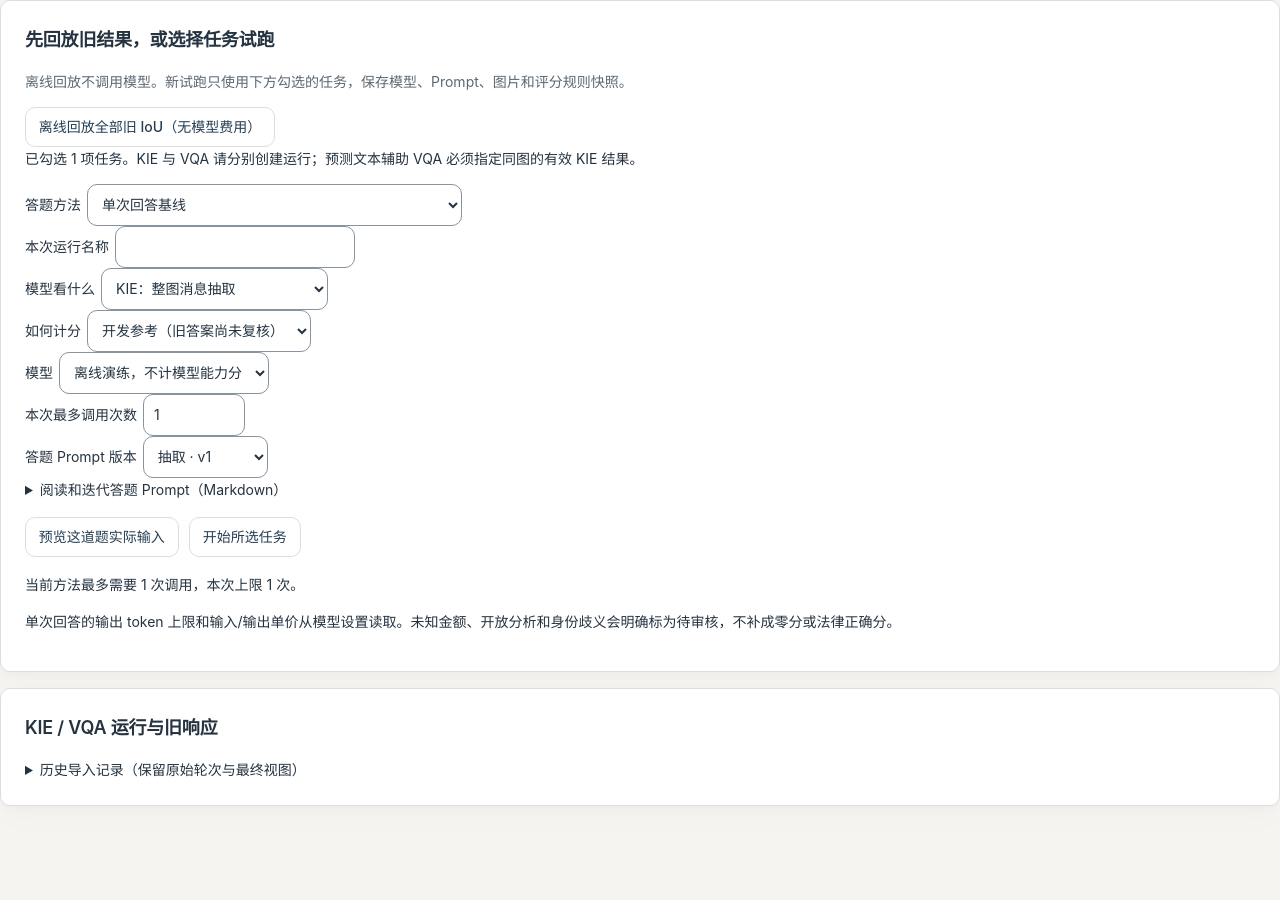
Test: recomputes the Reflexion action and reflection ceiling when attempts change
Select "Reflexion：作者反思与记忆" in the dropdown labelled "答题方法" at (274, 205), box [87,184,462,226]
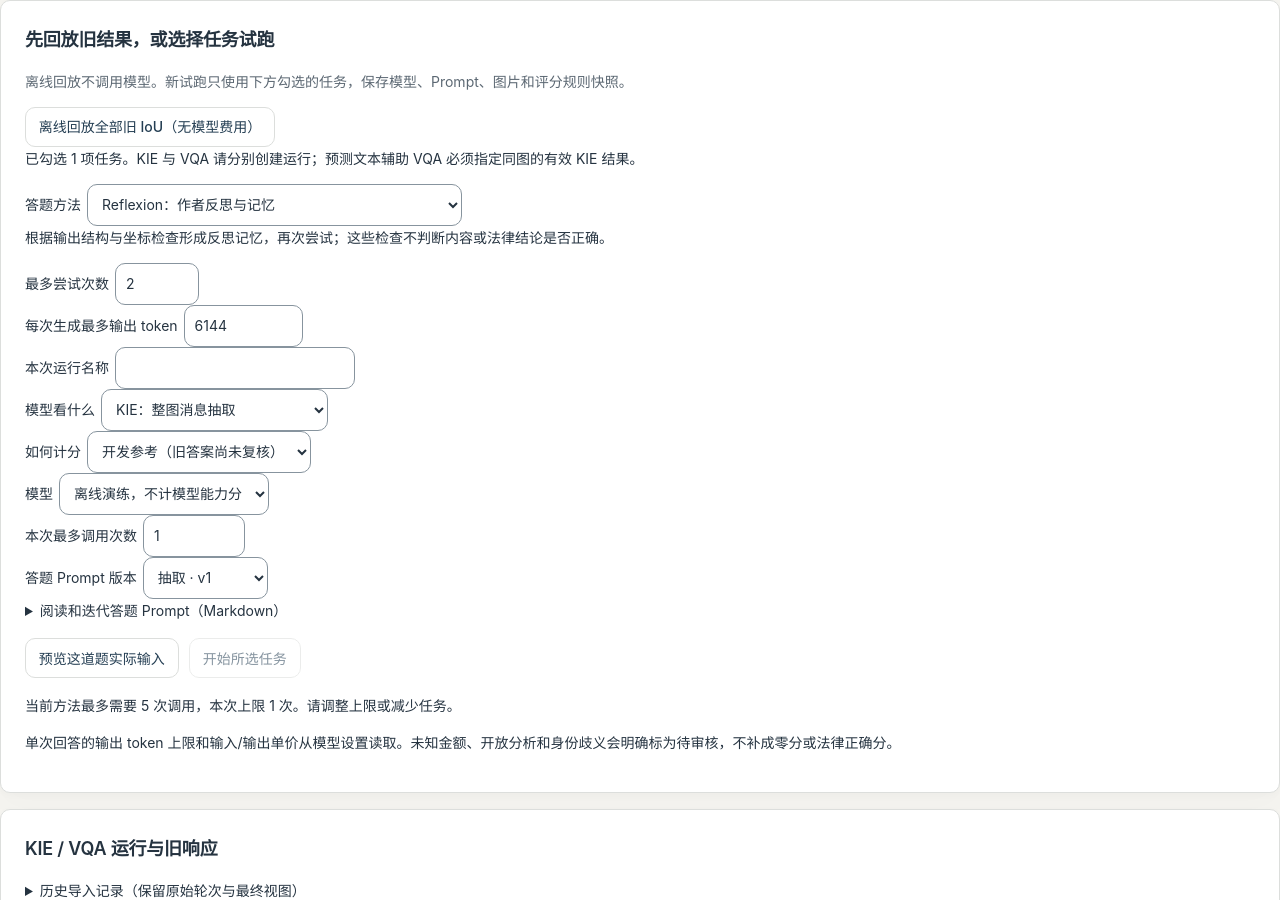
Now the message shows "最多需要 5 次调用", box [25,697,461,714]
Replace the text in the number field labelled "最多尝试次数" with "3" at (157, 284), box [115,263,199,305]
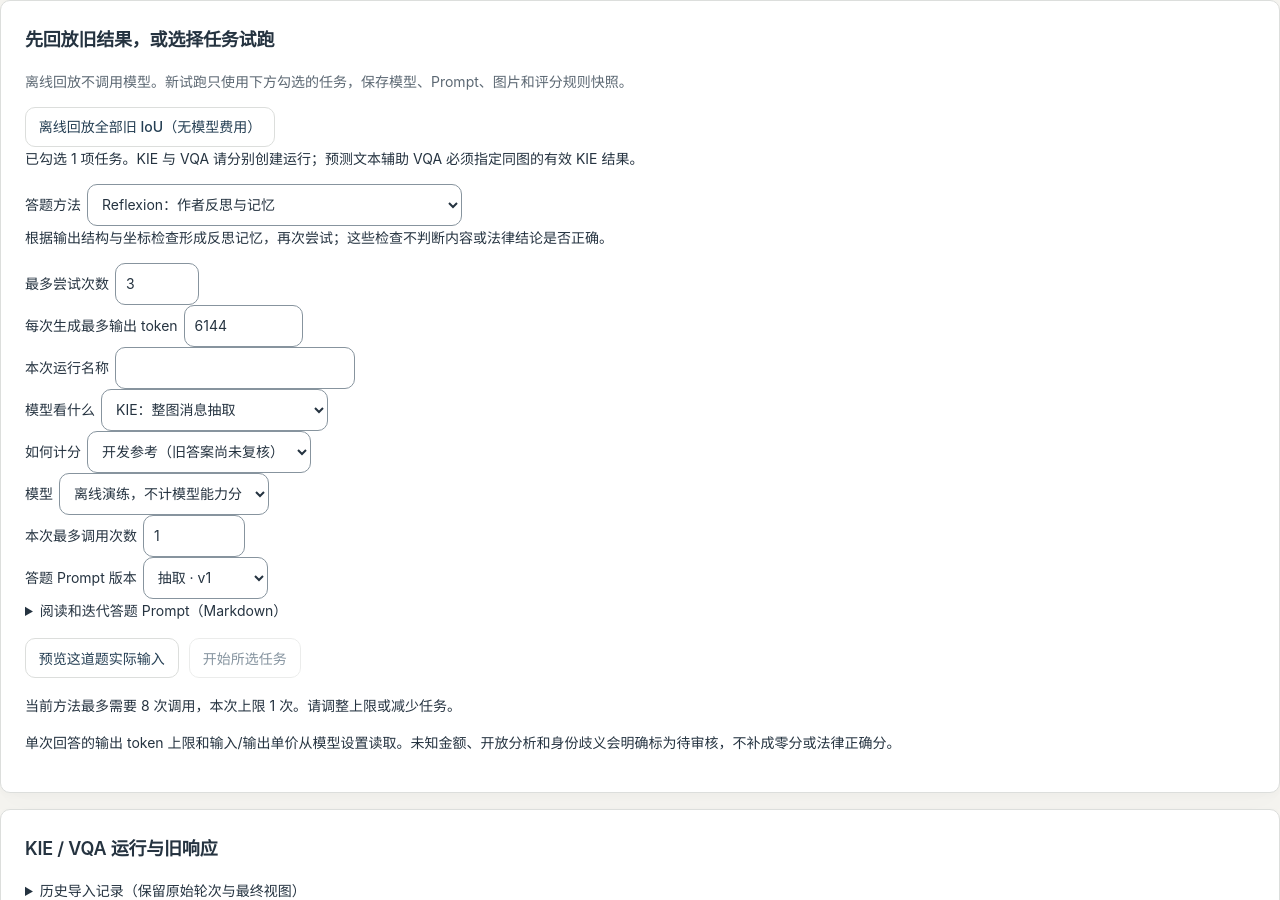
Now the message shows "最多需要 8 次调用", box [25,697,461,714]
Replace the text in the number field labelled "本次最多调用次数" with "7" at (194, 536), box [143,515,245,557]
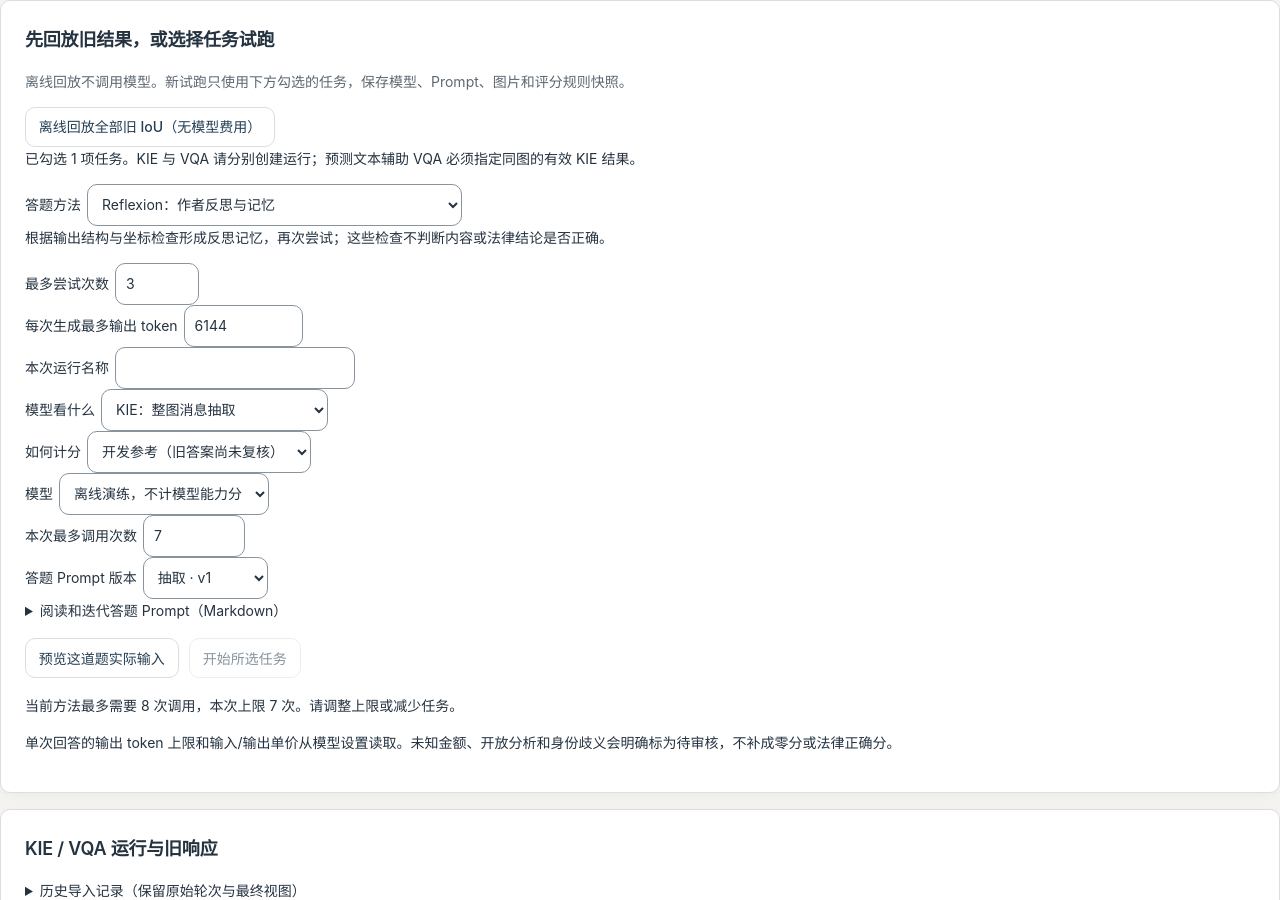
Now the button "开始所选任务" is disabled, box [189,638,301,678]
Replace the text in the number field labelled "本次最多调用次数" with "8" at (194, 536), box [143,515,245,557]
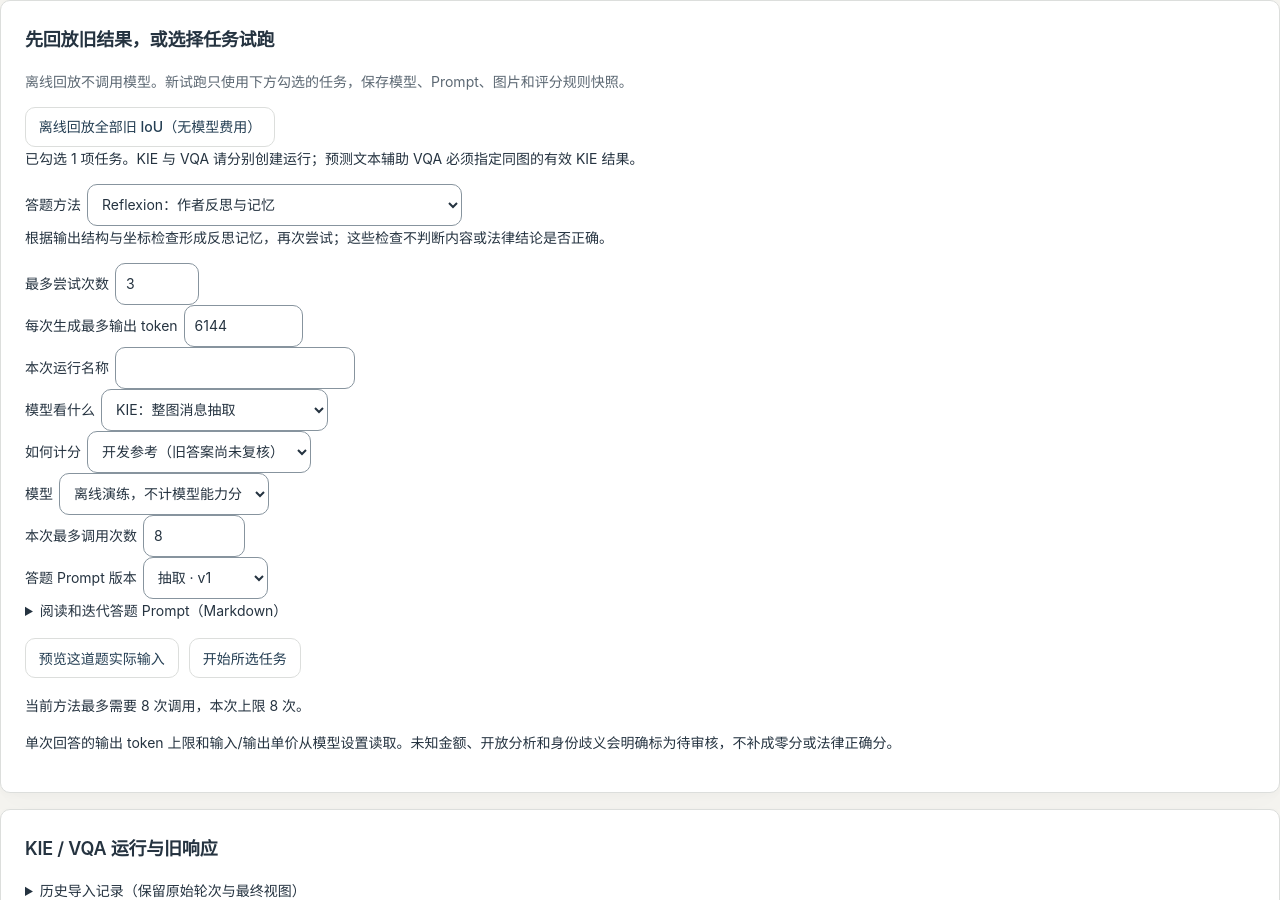
Now the button "开始所选任务" is enabled, box [189,638,301,678]
